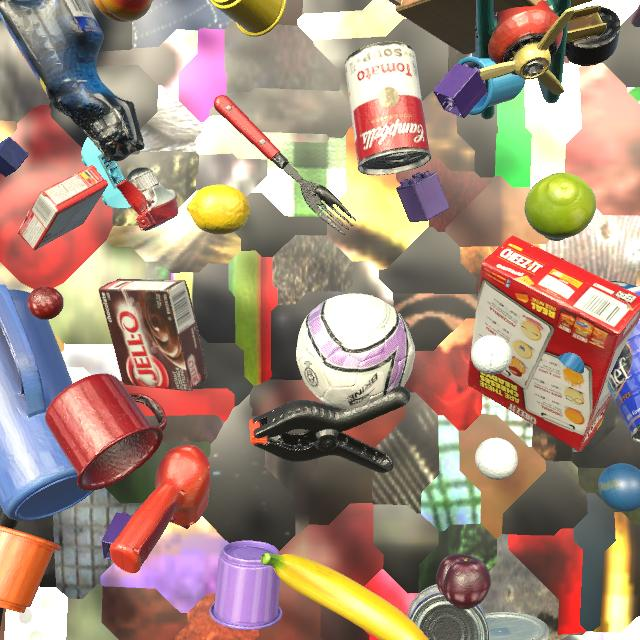ycb_002_master_chef_can: (607, 286, 640, 443), (485, 612, 549, 640)
ycb_003_cracker_box: (466, 236, 640, 452)
ycb_005_tomato_soup_can: (345, 41, 431, 175)
ycb_007_tuna_fish_can: (407, 584, 489, 640)
ycb_008_pudding_box: (98, 278, 207, 391)
ycb_009_gelatin_box: (18, 165, 109, 250)
ycb_011_banana: (261, 553, 429, 640)
ycb_014_lemon: (186, 184, 251, 235)
ycb_015_peach: (93, 0, 152, 22)
ycb_016_pear: (525, 173, 596, 241)
ycb_018_plum: (436, 554, 491, 610)
